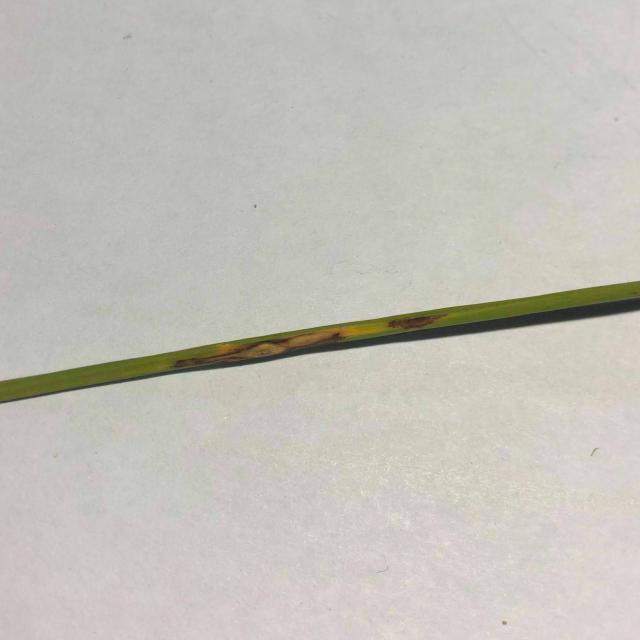Blast: (289, 322, 437, 348), (217, 340, 286, 358)
